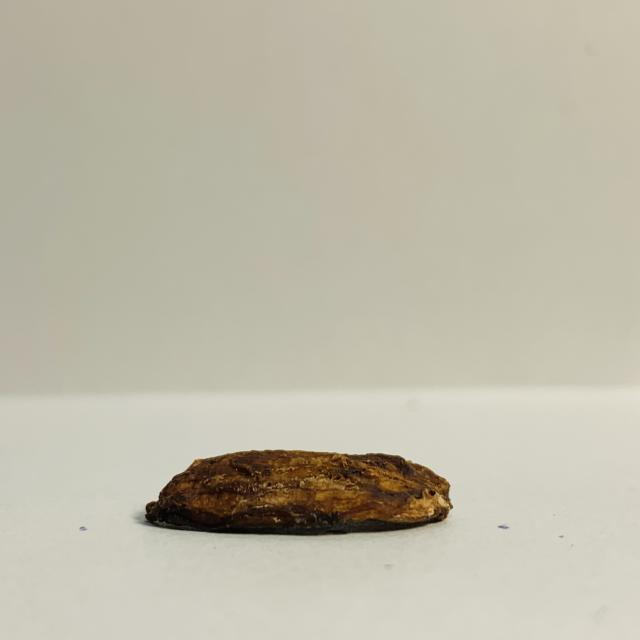Flat_cocoabeans: (109, 417, 488, 554)
